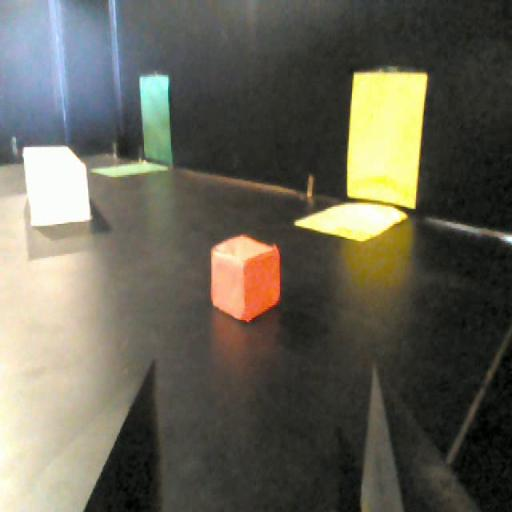cube: (205, 232, 286, 324)
